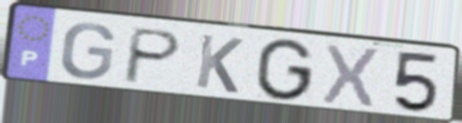5: (389, 49, 444, 115)
G: (252, 37, 317, 104), (58, 21, 118, 82)
K: (192, 32, 246, 96)
P: (120, 25, 186, 86)
X: (319, 42, 383, 111)
